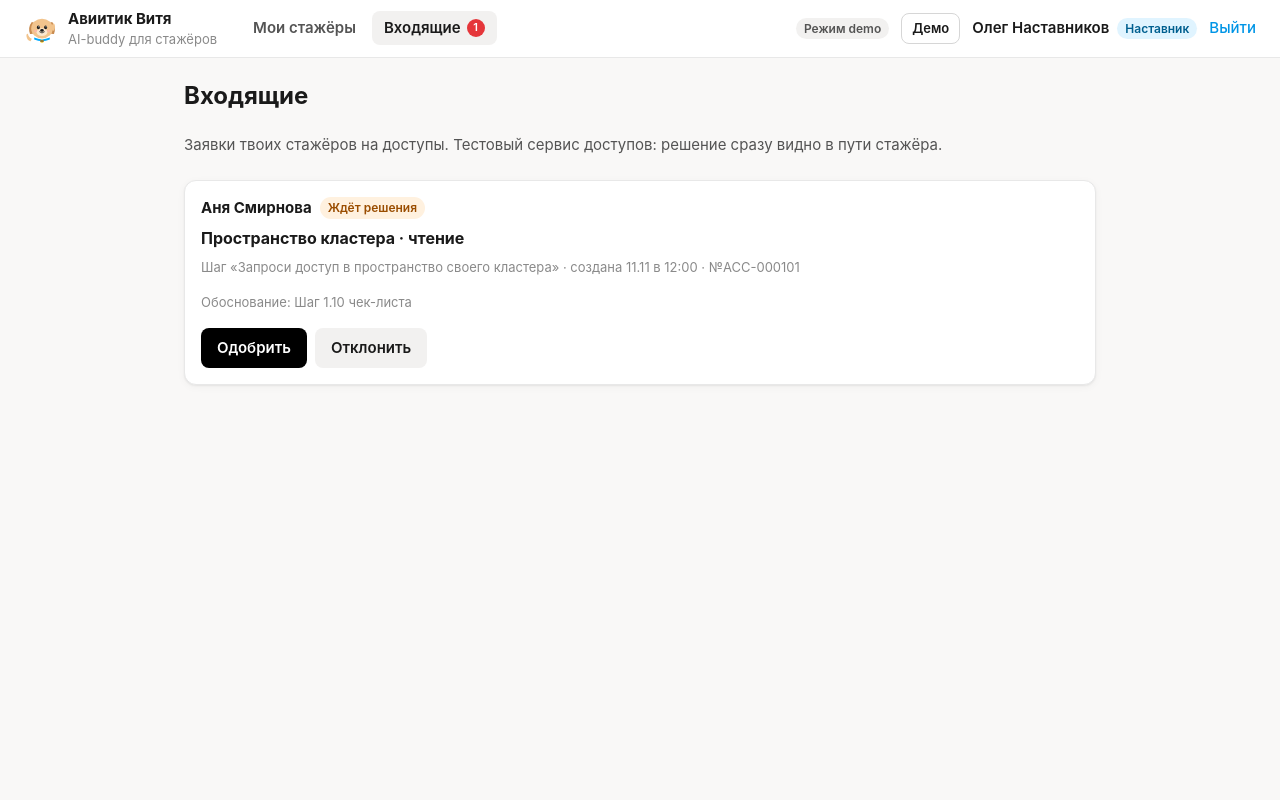
Test case: mentor inbox (wave 6, XF-05…XF-07) › approve removes the card optimistically and sends the decision
Click the button "Одобрить" at (254, 348), box [201,328,307,368]
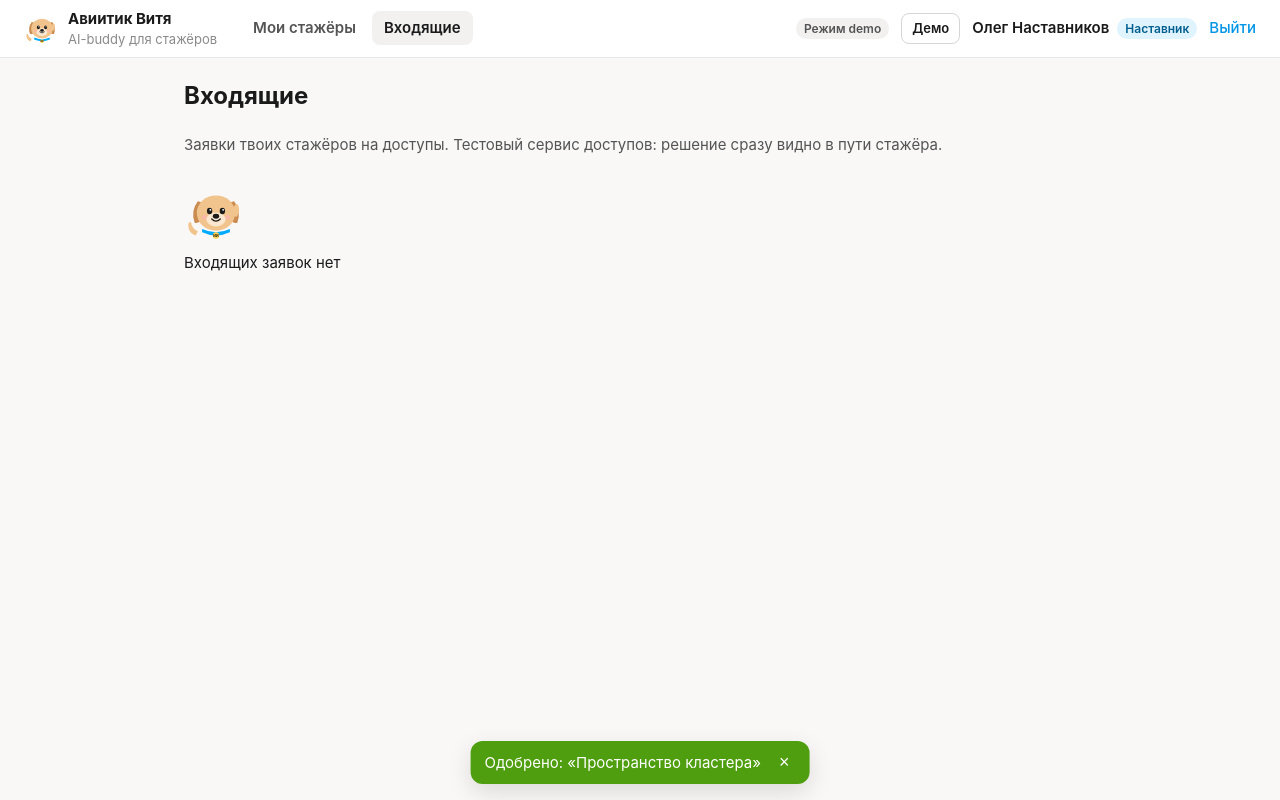
Check: the text "Одобрено: «Пространство кластера»" is shown, box [485,752,761,773]
